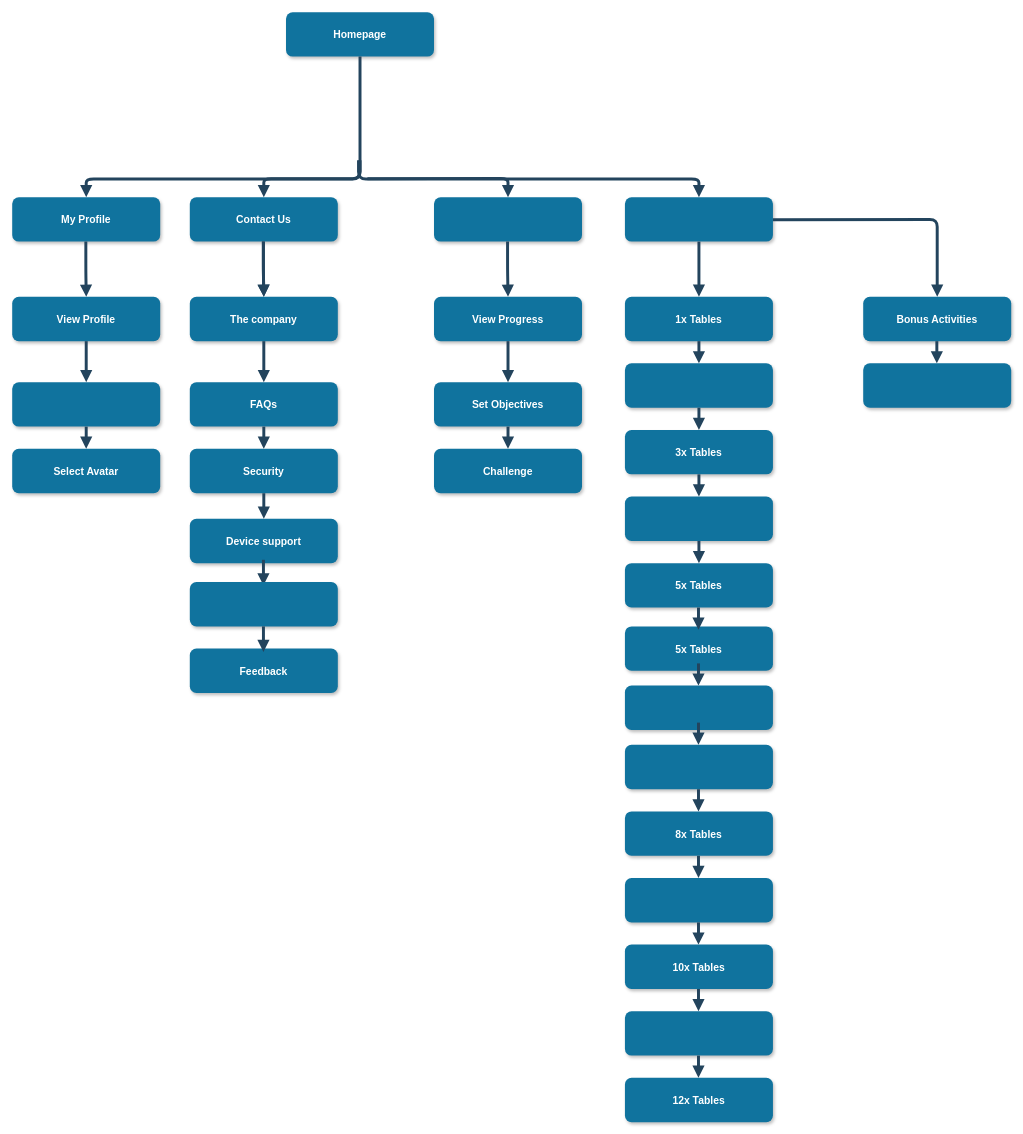
Image size: 1023x1134. Some labels were removed from this diagram. The centre of each missing label's shape, as x and y in pixels:
11x Tables: the point at 699,1034
2x Tables: the point at 699,386
4x Tables: the point at 699,519
6x Tables: the point at 699,708
7x Tables: the point at 699,767
9x Tables: the point at 699,901
Chat: the point at 937,386
Edit Profile: the point at 86,405
Play: the point at 699,220
Record: the point at 508,220
Report: the point at 264,605
